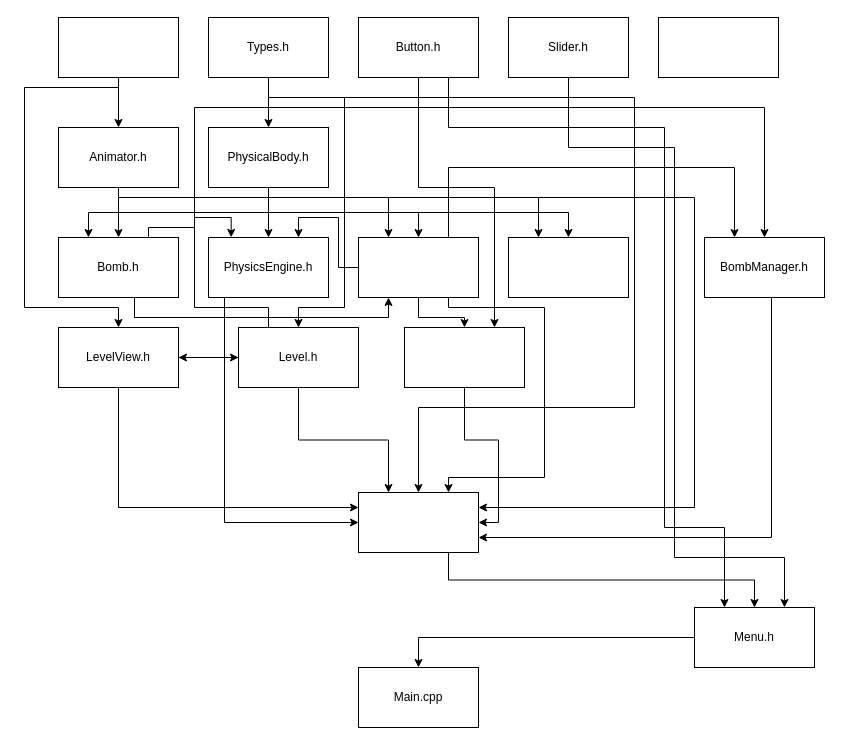
The diagram is 842 pixels wide and 745 high, and some of its shapes have lost their labels. The centre of each missing label's shape, as x and y in pixels:
"Game.h" goes at (418,522).
"GUI.h" goes at (464,357).
"Option.h" goes at (718,47).
"Player.h" goes at (418,267).
"Ray.h" goes at (568,267).
"TextureAtlas.h" goes at (118,47).
